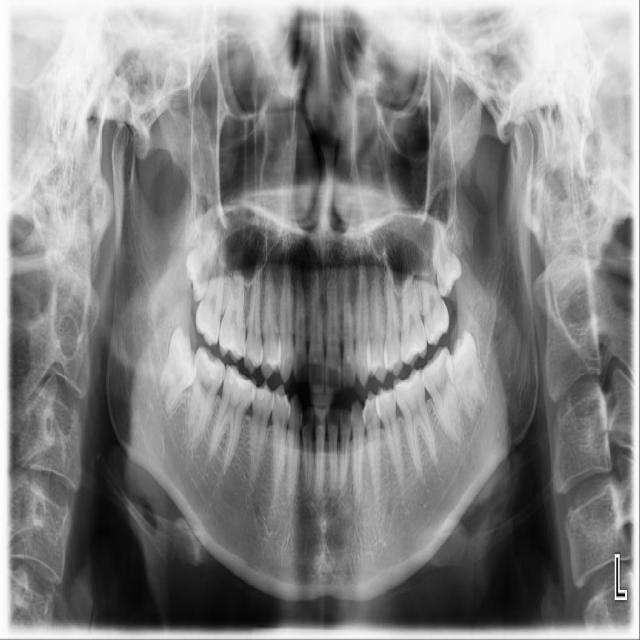3M ESPE Implant: (174, 218, 227, 305)
52: (182, 340, 238, 396), (209, 359, 266, 414), (400, 321, 428, 367), (252, 380, 275, 418)
73: (614, 607, 624, 617)
BioHorizons Implant: (412, 234, 453, 348)
BioLife Implant: (429, 214, 465, 299)
Biomet 3i Implant: (437, 329, 495, 421)
Blue Sky Bio Implant: (417, 345, 465, 445)
Caries: (192, 237, 231, 348)
Implant: (183, 345, 229, 447)
Keystone Dental Implant: (150, 325, 208, 421)
